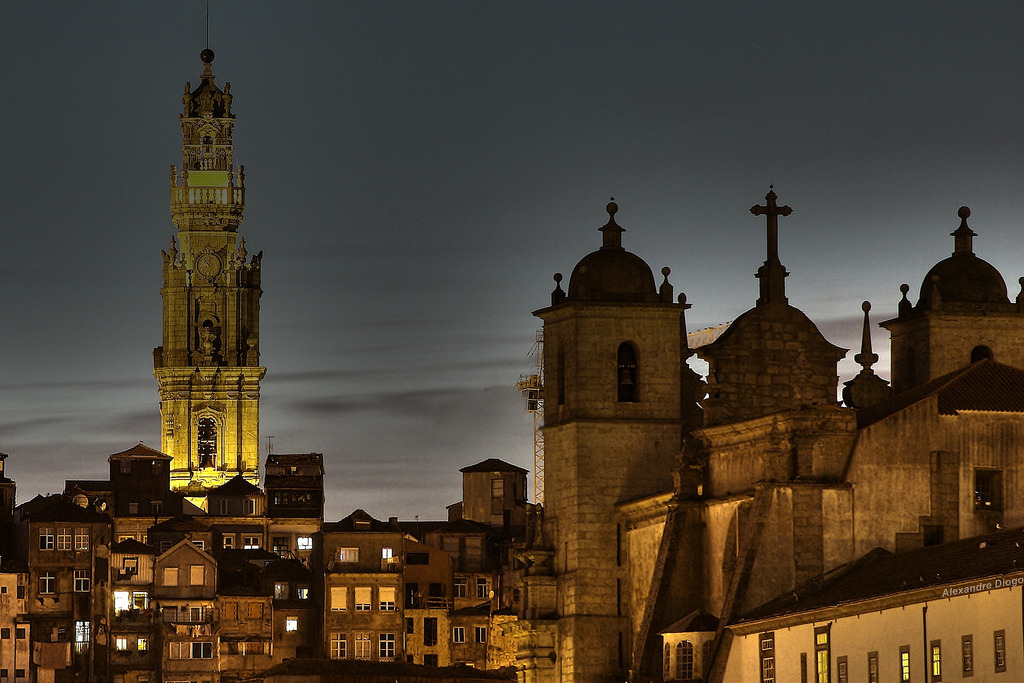clerigos: (147, 0, 272, 514)
